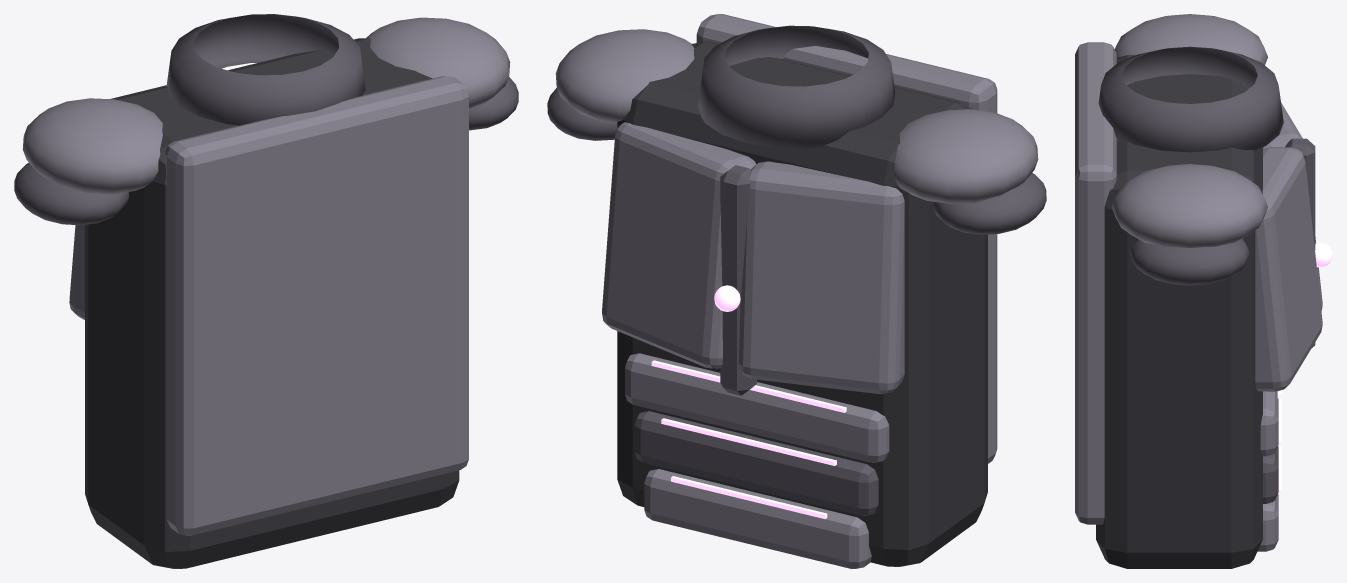
File: pancir_full.glb
3 renders of one model, left to right at view 1: azimuth 30°, elevation 25°; view 2: azimuth 150°, elevation 25°; view 3: azimuth 270°, elevation 25°, orthographic. The views are drawn at different scales.
Visible parts, largest first — view 1: PancirFull; view 2: PancirFull; view 3: PancirFull.
Boxes of the visible parts, x1,y1,x2,y2 form: PancirFull: (14, 14, 518, 568); PancirFull: (547, 14, 1046, 568); PancirFull: (1075, 14, 1332, 568).
Bounding box in the file's own units: 0.5 × 0.46 × 0.247.
